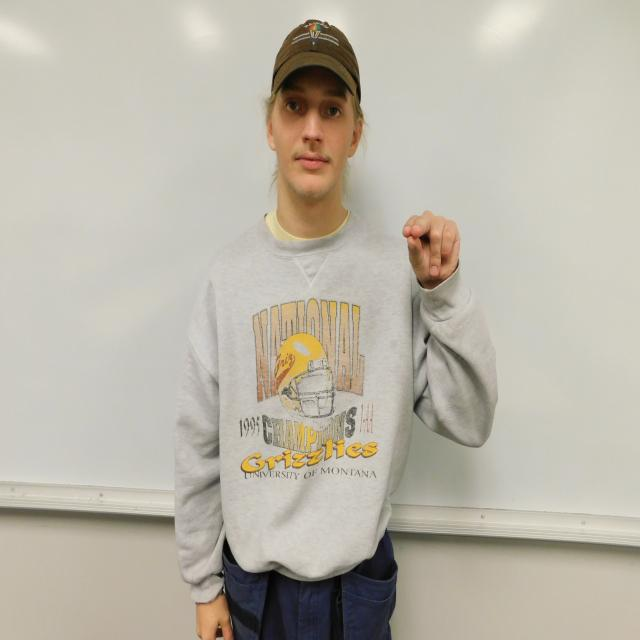no: (402, 210, 461, 283)
